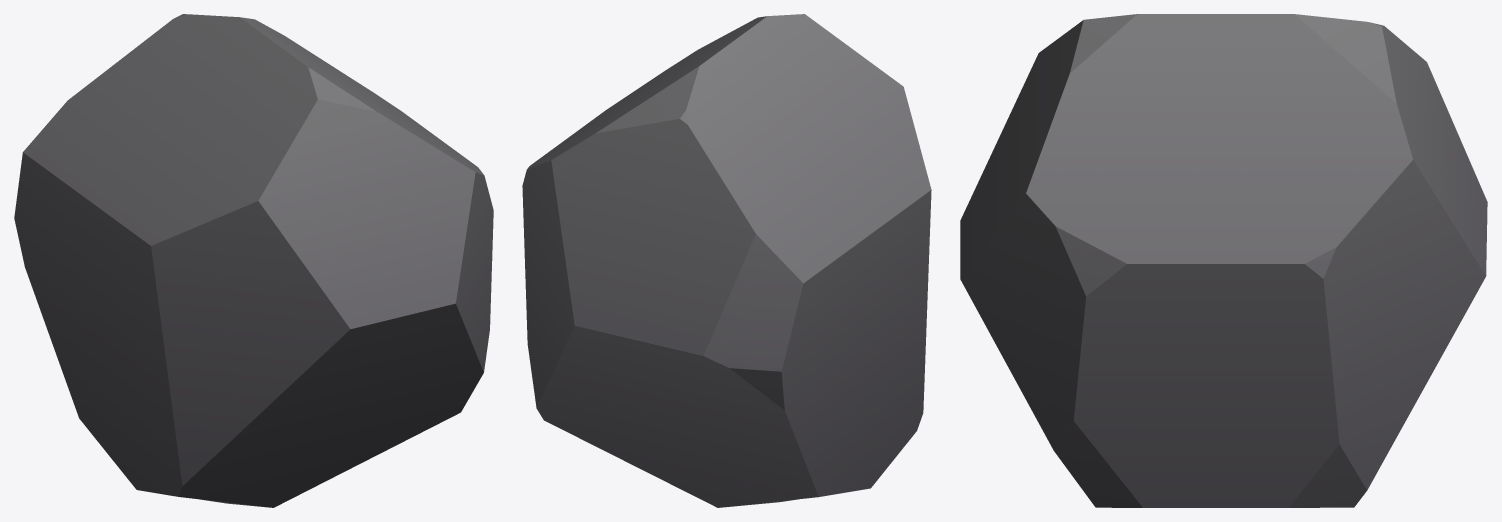
File: Mesh_Nature_Rock_05.FBX
3 renders of one model, left to right at view 1: azimuth 30°, elevation 25°; view 2: azimuth 150°, elevation 25°; view 3: azimuth 270°, elevation 25°, orthographic. The views are drawn at different scales.
Parts seen in each view (by area): view 1: Mesh_Nature_Rock_05; view 2: Mesh_Nature_Rock_05; view 3: Mesh_Nature_Rock_05.
Boxes of the visible parts, x1,y1,x2,y2 form: Mesh_Nature_Rock_05: (14,14,493,507); Mesh_Nature_Rock_05: (522,14,931,507); Mesh_Nature_Rock_05: (960,14,1487,507).
Size of what is drawn, in the model's own units: 117 by 143 by 154.
